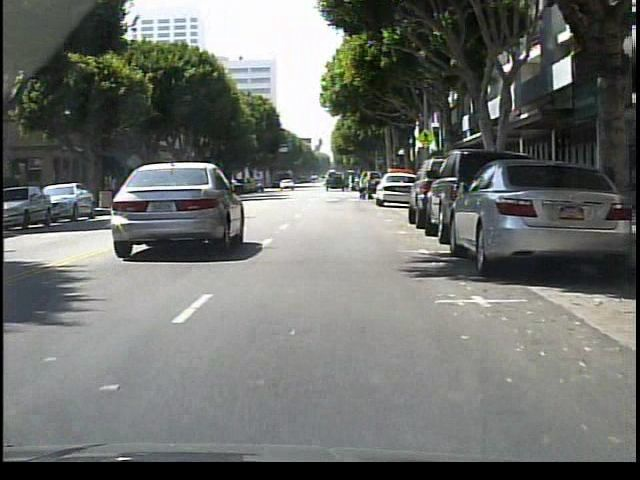person: (361, 172, 375, 201), (352, 171, 353, 191)
